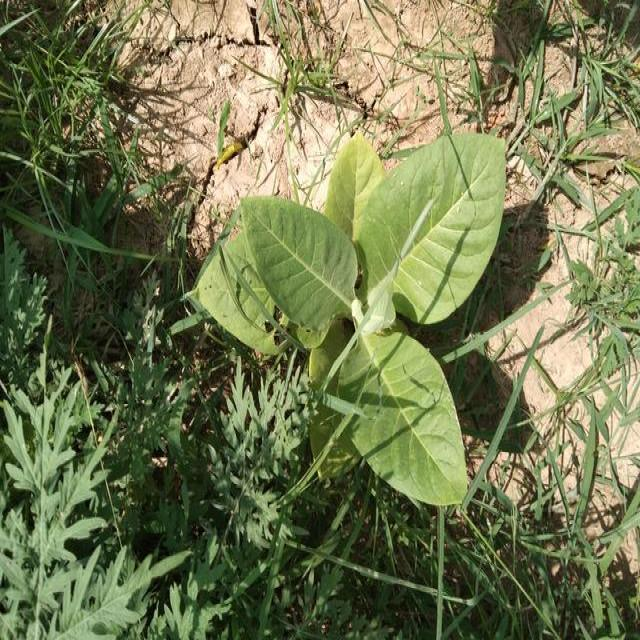crop: (200, 143, 510, 513)
